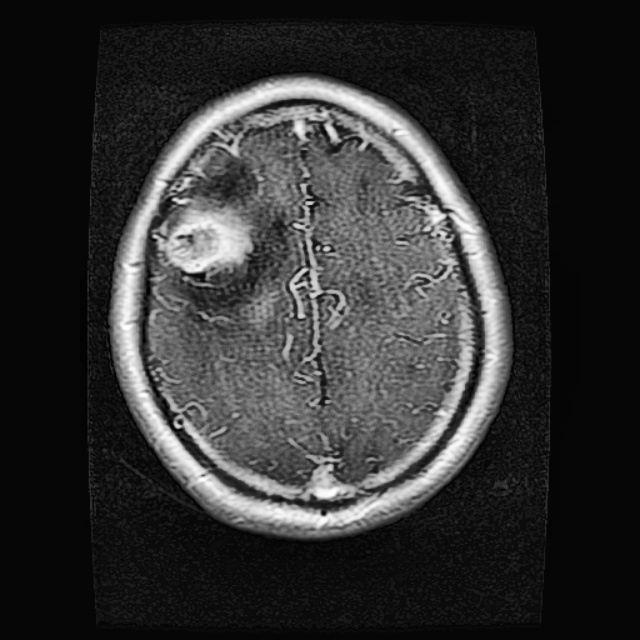Pituitary: (159, 195, 260, 279)
